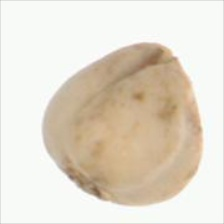L3: (141, 42, 187, 73)
L4: (42, 43, 203, 206)
